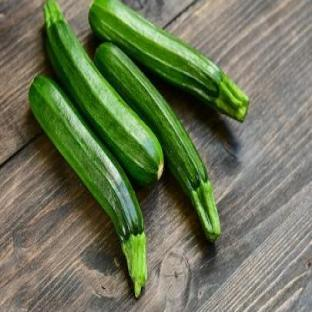Zucchini: (30, 77, 147, 296), (95, 42, 220, 241)
